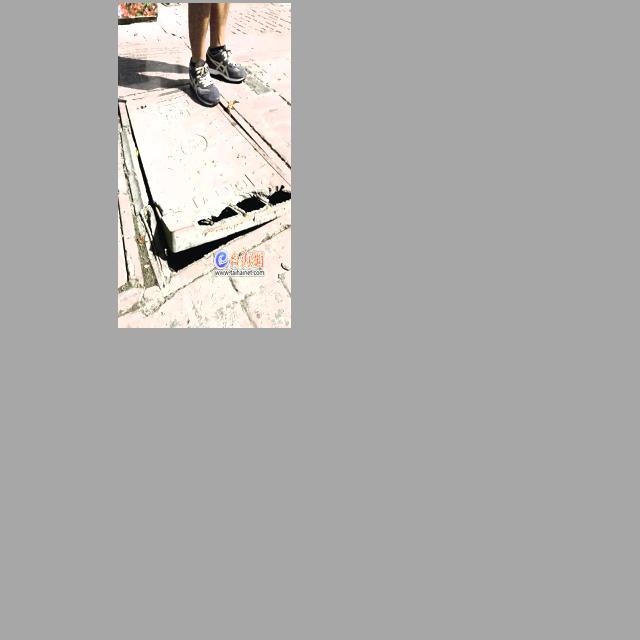broke: (124, 89, 291, 281)
